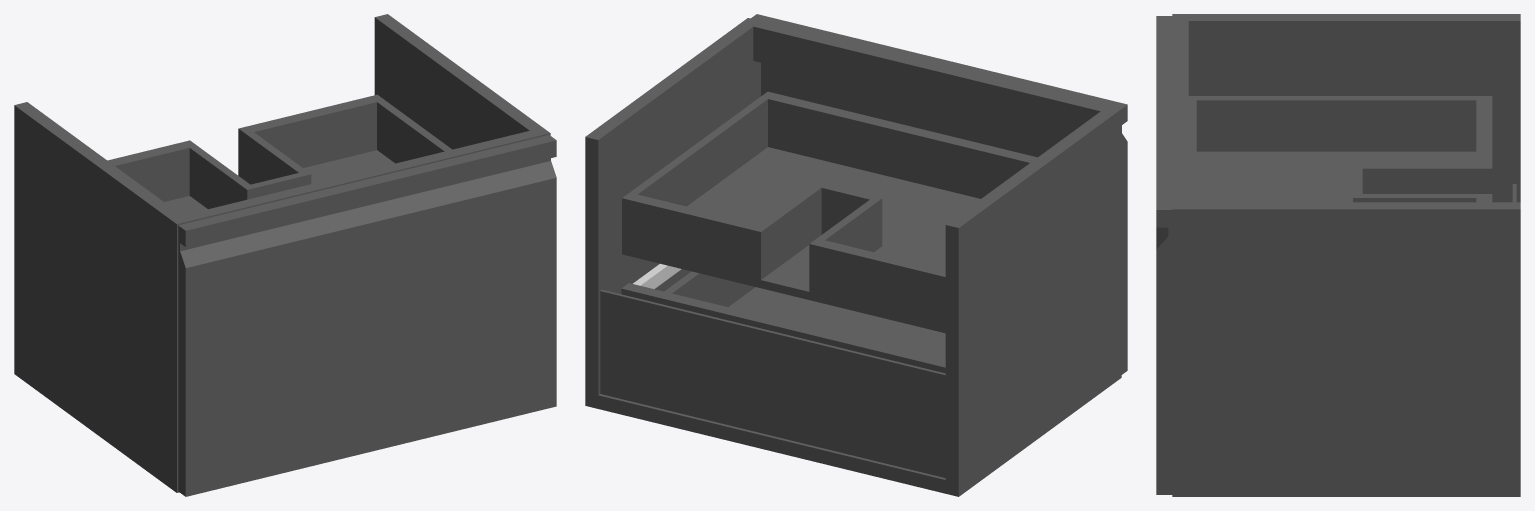
The model's file is AEC_46761.glb.
3 renders of one model, left to right at view 1: azimuth 30°, elevation 25°; view 2: azimuth 150°, elevation 25°; view 3: azimuth 270°, elevation 25°, orthographic. The views are drawn at different scales.
Visible parts, largest first — view 1: 0; view 2: 0; view 3: 0.
Part boxes in pixels (x1,y1,x2,y2): 0: (14,14,556,496); 0: (585,14,1127,496); 0: (1156,14,1520,496).
Bounding box in the file's own units: 0.57 × 0.392 × 0.45.
Materials: 1 (1 with a texture image).
